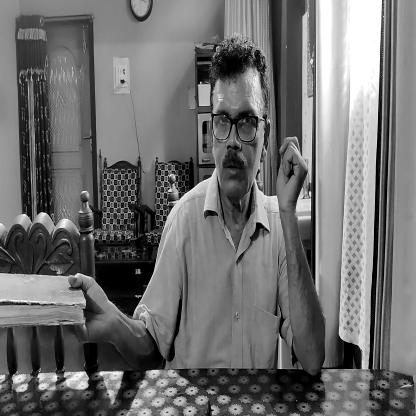Normal: (201, 38, 274, 206)
